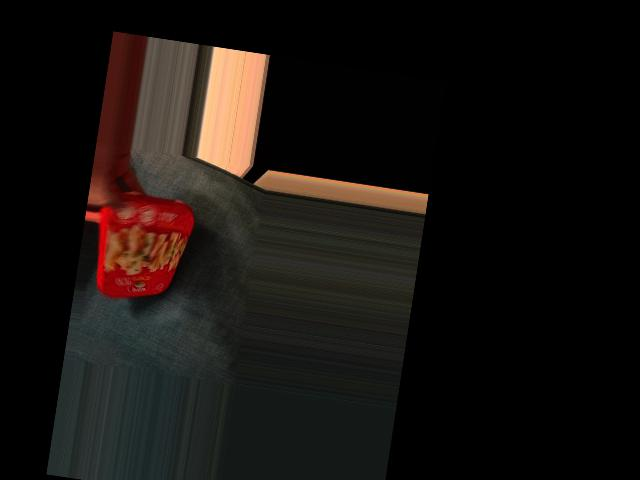cheese: (89, 183, 193, 305)
